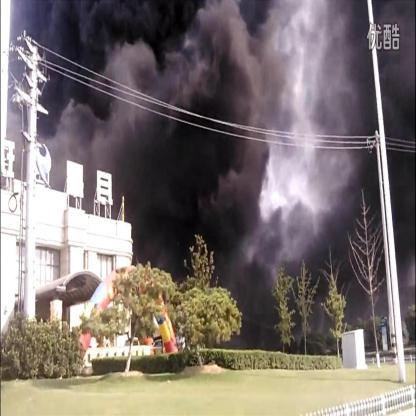smoke: (13, 1, 377, 194), (285, 196, 414, 302), (203, 196, 285, 306), (130, 195, 194, 280), (380, 50, 414, 194)
